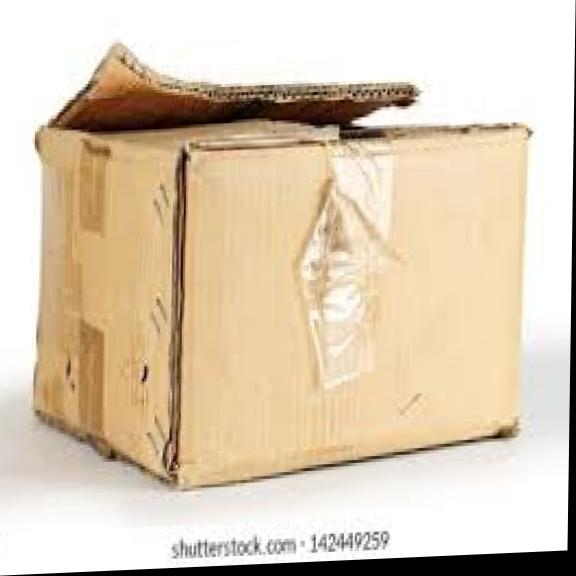Kertas: (36, 47, 528, 486)
